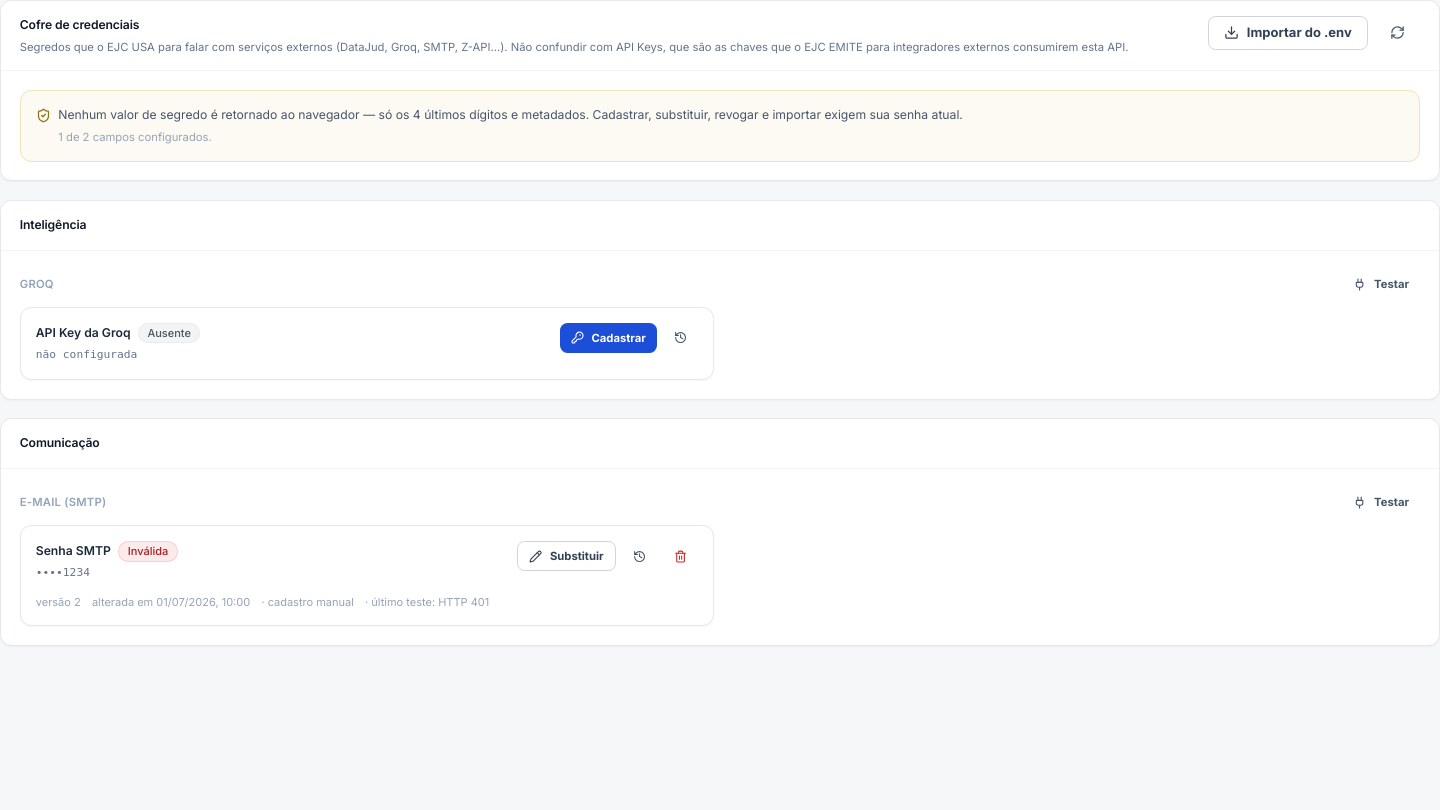
Test: CredentialVaultPanel — botão Testar › sucesso atualiza o badge do provider com o estado retornado (sem valor no DOM)
Expected: the text "Inválida" is shown, [118,541,178,562]
Step 1. Click the button "Testar" in the row of "E-mail (SMTP)" → (1381, 503), box [1342,488,1420,518]
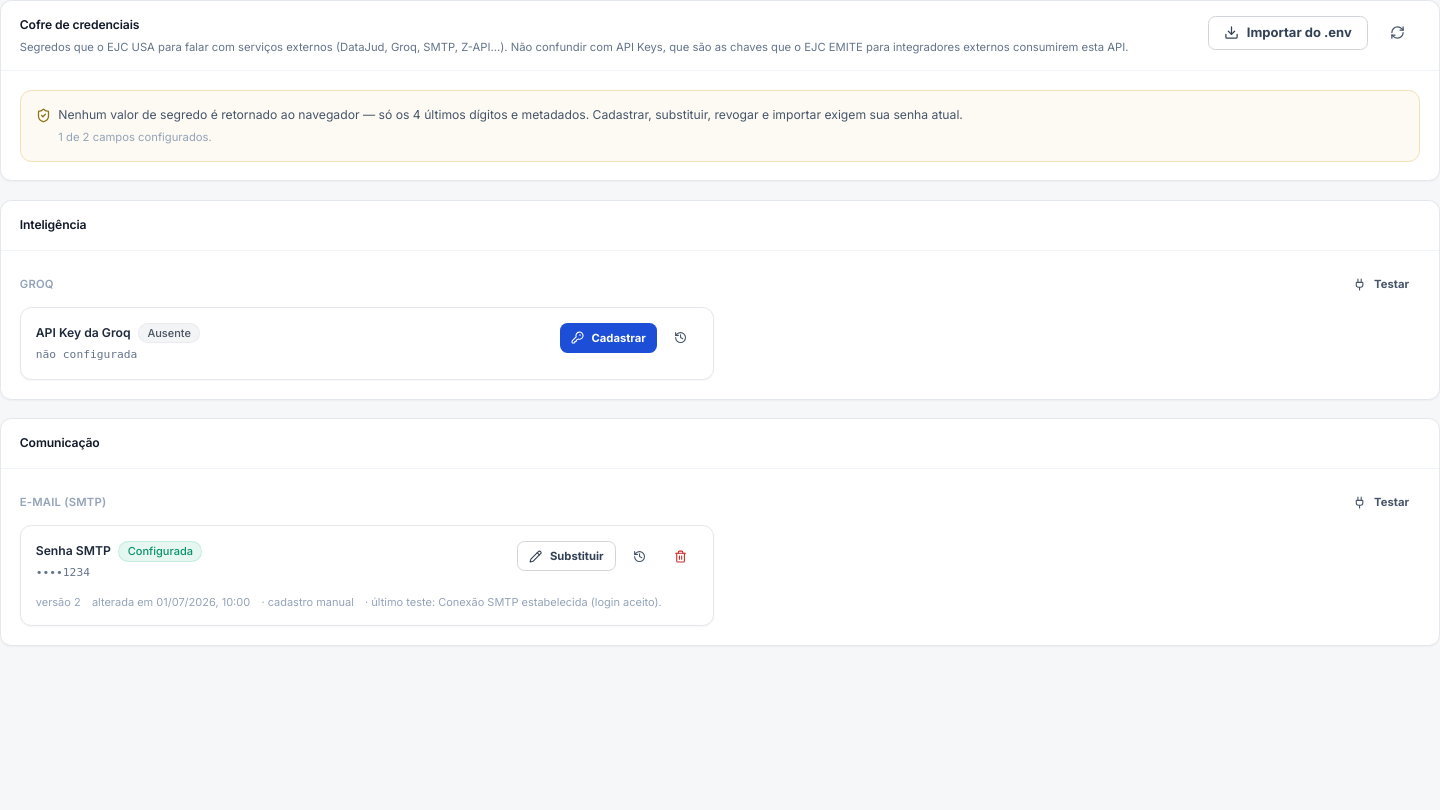
Expected: the text "Configurada" is shown, [118,541,202,562]
Expected: the text "Inválida" is gone
Expected: the text "· último teste: Conexão SMTP estabelecida (login aceito)." is shown, [365,594,662,610]
